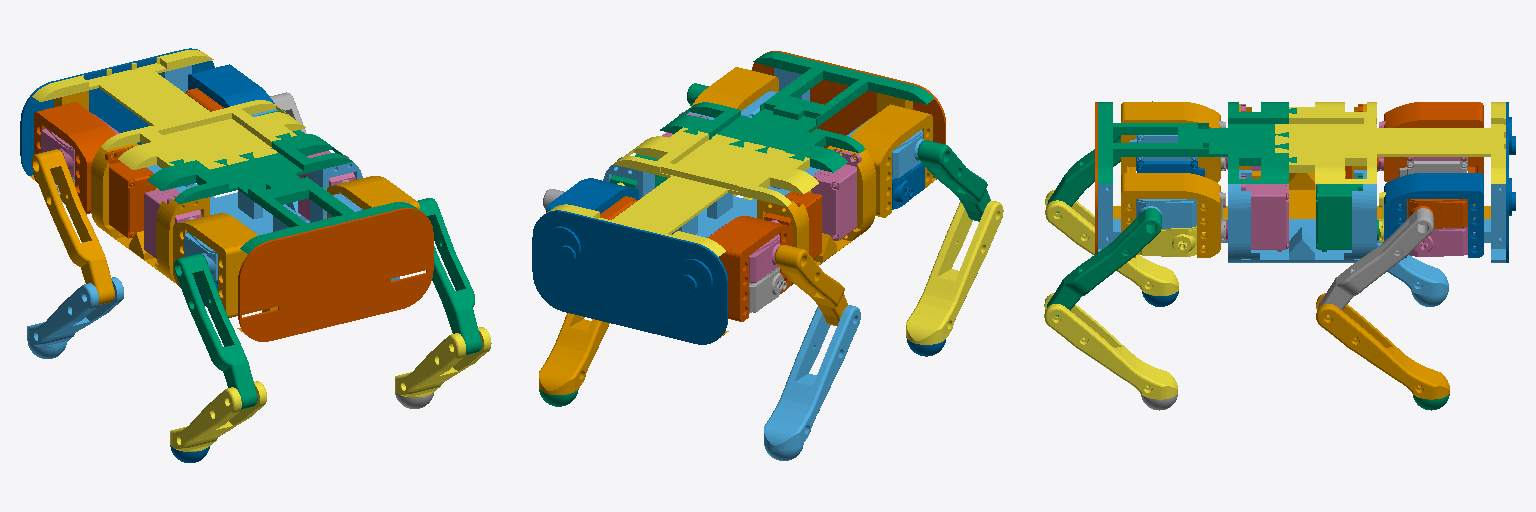
--- Render facts (derived) ---
Views: 3 orthographic renders of the robot side by side, from view 1: azimuth 30°, elevation 25°; view 2: azimuth 150°, elevation 25°; view 3: azimuth 270°, elevation 25°.
Model body_urdf with 42 links and 41 joints (12 continuous, 29 fixed), rooted at base_link, posed every joint at zero.
Links seen in each view (by area): view 1: final_body_ass_v11, final_body_top_front_v11, final_body_top_back_v11, FL_leg_knee_up_v11, BL_leg_knee_up_v11, base_link, BR_leg_knee_up_v11, BL_leg_hip_servo_holder_v11, FL_leg_hip_servo_holder_v11, final_body_right_v11, final_body_face_v11, BL_leg_ankle_v11 (+8 smaller); view 2: final_body_face_v11, final_body_top_front_v11, final_body_top_back_v11, BL_leg_ankle_v11, FL_leg_ankle_v11, BL_leg_hip_servo_holder_v11, base_link, FL_leg_hip_servo_holder_v11, FR_leg_ankle_v11, final_body_ass_v11, final_body_right_v11, BL_shoulder_servo_v11 (+9 smaller); view 3: final_body_top_front_v11, final_body_top_back_v11, final_body_right_v11, FR_leg_ankle_v11, BR_leg_ankle_v11, BR_leg_hip_servo_holder_v11, FR_leg_hip_servo_holder_v11, BR_leg_knee_up_v11, FR_leg_knee_up_v11, BL_leg_ankle_v11, FL_leg_hip_servo_holder_v11, BL_leg_hip_servo_holder_v11 (+13 smaller).
Boxes of the visible links, x1,y1,x2,y2 form: final_body_ass_v11: [238, 208, 433, 341]; final_body_top_front_v11: [32, 50, 305, 169]; final_body_top_back_v11: [147, 133, 419, 253]; FL_leg_knee_up_v11: [32, 149, 114, 304]; BL_leg_knee_up_v11: [174, 254, 257, 409]; base_link: [30, 91, 277, 334]; BR_leg_knee_up_v11: [417, 198, 481, 354]; BL_leg_hip_servo_holder_v11: [173, 213, 258, 317]; FL_leg_hip_servo_holder_v11: [34, 102, 115, 213]; final_body_right_v11: [146, 65, 399, 280]; final_body_face_v11: [20, 48, 214, 175]; BL_leg_ankle_v11: [170, 381, 266, 451]; final_body_face_v11: [532, 210, 727, 344]; final_body_top_front_v11: [547, 127, 818, 256]; final_body_top_back_v11: [660, 52, 933, 172]; BL_leg_ankle_v11: [906, 201, 1003, 344]; FL_leg_ankle_v11: [764, 305, 860, 449]; BL_leg_hip_servo_holder_v11: [851, 104, 932, 217]; base_link: [721, 93, 935, 336]; FL_leg_hip_servo_holder_v11: [708, 216, 792, 321]; FR_leg_ankle_v11: [539, 313, 609, 394]; final_body_ass_v11: [752, 51, 945, 179]; final_body_right_v11: [603, 68, 819, 237]; BL_shoulder_servo_v11: [811, 149, 861, 240]; final_body_top_front_v11: [1275, 102, 1505, 183]; final_body_top_back_v11: [1098, 102, 1296, 183]; final_body_right_v11: [1098, 170, 1505, 262]; FR_leg_ankle_v11: [1316, 293, 1449, 399]; BR_leg_ankle_v11: [1044, 293, 1177, 399]; BR_leg_hip_servo_holder_v11: [1121, 173, 1220, 257]; FR_leg_hip_servo_holder_v11: [1384, 173, 1483, 257]; BR_leg_knee_up_v11: [1047, 208, 1161, 316]; FR_leg_knee_up_v11: [1318, 208, 1433, 316]; BL_leg_ankle_v11: [1045, 189, 1178, 295]; FL_leg_hip_servo_holder_v11: [1384, 102, 1483, 182]; BL_leg_hip_servo_holder_v11: [1121, 102, 1220, 182].
Bounding box of the posed robot: 0.1868 × 0.3113 × 0.1613 m (x, y, z).
42 mesh visuals loaded from 42 distinct referenced files (42 binary STL).

URDF robot description (body_urdf):
<?xml version="1.0" ?>
<robot name="body_urdf">

<material name="silver">
  <color rgba="0.700 0.700 0.700 1.000"/>
</material>

<link name="base_link">
  <inertial>
    <origin xyz="-0.09832294338458615 0.1308688922668954 0.014562295681538818" rpy="0 0 0"/>
    <mass value="1.0091264990609587"/>
    <inertia ixx="0.006444104092593338" iyy="0.0006187182912900362" izz="0.006492899213548932" ixy="3.1017381210396086e-05" iyz="-1.106358624542521e-05" ixz="0.00012583594730295757"/>
  </inertial>
  <visual>
    <origin xyz="0 0 0" rpy="0 0 0"/>
    <geometry>
      <mesh filename="meshes/base_link.stl" scale="0.001 0.001 0.001"/>
    </geometry>
    <material name="silver"/>
    <material/>
  </visual>
  <collision>
    <origin xyz="0 0 0" rpy="0 0 0"/>
    <geometry>
      <mesh filename="meshes/base_link.stl" scale="0.001 0.001 0.001"/>
    </geometry>
  </collision>
</link>

<link name="final_body_right_v11">
  <inertial>
    <origin xyz="0.03084929023590735 0.13578873455716275 0.010080476393786718" rpy="0 0 0"/>
    <mass value="1.0573685832129545"/>
    <inertia ixx="0.006673519250288529" iyy="0.0006716967260792454" izz="0.00676487921131453" ixy="3.0295167626065433e-05" iyz="1.0555750832457605e-05" ixz="-0.0001414940180916987"/>
  </inertial>
  <visual>
    <origin xyz="0.066 0.003 -0.004" rpy="0 0 0"/>
    <geometry>
      <mesh filename="meshes/final_body_right_v11.stl" scale="0.001 0.001 0.001"/>
    </geometry>
    <material name="silver"/>
    <material/>
  </visual>
  <collision>
    <origin xyz="0.066 0.003 -0.004" rpy="0 0 0"/>
    <geometry>
      <mesh filename="meshes/final_body_right_v11.stl" scale="0.001 0.001 0.001"/>
    </geometry>
  </collision>
</link>

<link name="final_body_top_back_v11">
  <inertial>
    <origin xyz="0.03733609341330517 0.0685774653288937 0.0025953340692637245" rpy="0 0 0"/>
    <mass value="0.24941485988842652"/>
    <inertia ixx="0.0004748040246053322" iyy="0.0002446467937671842" izz="0.0007179299991387799" ixy="3.7952674485700316e-06" iyz="2.5539268485221672e-06" ixz="2.0392514878770848e-08"/>
  </inertial>
  <visual>
    <origin xyz="0.1032 0.003 -0.06253" rpy="0 0 0"/>
    <geometry>
      <mesh filename="meshes/final_body_top_back_v11.stl" scale="0.001 0.001 0.001"/>
    </geometry>
    <material name="silver"/>
    <material/>
  </visual>
  <collision>
    <origin xyz="0.1032 0.003 -0.06253" rpy="0 0 0"/>
    <geometry>
      <mesh filename="meshes/final_body_top_back_v11.stl" scale="0.001 0.001 0.001"/>
    </geometry>
  </collision>
</link>

<link name="final_body_top_front_v11">
  <inertial>
    <origin xyz="-0.03743787423794786 -0.08646398439485603 0.0021478138289388188" rpy="0 0 0"/>
    <mass value="0.26735979522124304"/>
    <inertia ixx="0.0005313120601983228" iyy="0.00027561794314928363" izz="0.0008054604598366679" ixy="-4.744508627515208e-07" iyz="2.0182315194081438e-06" ixz="1.0163750948960666e-07"/>
  </inertial>
  <visual>
    <origin xyz="0.0288 -0.267 -0.06253" rpy="0 0 0"/>
    <geometry>
      <mesh filename="meshes/final_body_top_front_v11.stl" scale="0.001 0.001 0.001"/>
    </geometry>
    <material name="silver"/>
    <material/>
  </visual>
  <collision>
    <origin xyz="0.0288 -0.267 -0.06253" rpy="0 0 0"/>
    <geometry>
      <mesh filename="meshes/final_body_top_front_v11.stl" scale="0.001 0.001 0.001"/>
    </geometry>
  </collision>
</link>

<link name="final_body_face_v11">
  <inertial>
    <origin xyz="1.2754717540752747e-06 0.0012835559172246769 0.035539816802552186" rpy="0 0 0"/>
    <mass value="0.1630730098056556"/>
    <inertia ixx="5.5851881092635475e-05" iyy="0.00031552789977539234" izz="0.0002600051256149982" ixy="-7.730017741354456e-10" iyz="-4.0992670012683467e-07" ixz="6.10425678721719e-09"/>
  </inertial>
  <visual>
    <origin xyz="0.066 -0.267 0.0" rpy="0 0 0"/>
    <geometry>
      <mesh filename="meshes/final_body_face_v11.stl" scale="0.001 0.001 0.001"/>
    </geometry>
    <material name="silver"/>
    <material/>
  </visual>
  <collision>
    <origin xyz="0.066 -0.267 0.0" rpy="0 0 0"/>
    <geometry>
      <mesh filename="meshes/final_body_face_v11.stl" scale="0.001 0.001 0.001"/>
    </geometry>
  </collision>
</link>

<link name="final_body_ass_v11">
  <inertial>
    <origin xyz="2.020921643233753e-05 -0.0009999999999999966 0.03448034290306755" rpy="0 0 0"/>
    <mass value="0.14143508899737656"/>
    <inertia ixx="5.2644019507456597e-05" iyy="0.0002627695931459687" izz="0.0002102198636978436" ixy="6.776263578034403e-21" iyz="0.0" ixz="3.7330252715948344e-08"/>
  </inertial>
  <visual>
    <origin xyz="0.066 0.003 -0.0" rpy="0 0 0"/>
    <geometry>
      <mesh filename="meshes/final_body_ass_v11.stl" scale="0.001 0.001 0.001"/>
    </geometry>
    <material name="silver"/>
    <material/>
  </visual>
  <collision>
    <origin xyz="0.066 0.003 -0.0" rpy="0 0 0"/>
    <geometry>
      <mesh filename="meshes/final_body_ass_v11.stl" scale="0.001 0.001 0.001"/>
    </geometry>
  </collision>
</link>

<link name="BL_shoulder_servo_v11">
  <inertial>
    <origin xyz="0.005000000417158992 0.010978373638995828 0.024635264790648363" rpy="0 0 0"/>
    <mass value="0.04601290048863176"/>
    <inertia ixx="1.2574710791247263e-05" iyy="8.00044061970498e-06" izz="7.68339797587803e-06" ixy="4.423544863740858e-17" iyz="-2.7077995843797316e-08" ixz="-3.396751196288461e-15"/>
  </inertial>
  <visual>
    <origin xyz="0.1265 -0.091873 -0.010595" rpy="0 0 0"/>
    <geometry>
      <mesh filename="meshes/BL_shoulder_servo_v11.stl" scale="0.001 0.001 0.001"/>
    </geometry>
    <material name="silver"/>
    <material/>
  </visual>
  <collision>
    <origin xyz="0.1265 -0.091873 -0.010595" rpy="0 0 0"/>
    <geometry>
      <mesh filename="meshes/BL_shoulder_servo_v11.stl" scale="0.001 0.001 0.001"/>
    </geometry>
  </collision>
</link>

<link name="BL_shoulder_servo_arm_v11">
  <inertial>
    <origin xyz="-1.4774175266532574e-05 -0.0031825221993156266 0.007872037110583999" rpy="0 0 0"/>
    <mass value="0.0032700969311456954"/>
    <inertia ixx="3.264258865628831e-07" iyy="3.5431626266497937e-07" izz="4.5035218574967714e-08" ixy="3.9807992656632016e-11" iyz="2.508121760210906e-09" ixz="4.059464669674425e-09"/>
  </inertial>
  <visual>
    <origin xyz="0.1215 -0.081273 -0.025395" rpy="0 0 0"/>
    <geometry>
      <mesh filename="meshes/BL_shoulder_servo_arm_v11.stl" scale="0.001 0.001 0.001"/>
    </geometry>
    <material name="silver"/>
    <material/>
  </visual>
  <collision>
    <origin xyz="0.1215 -0.081273 -0.025395" rpy="0 0 0"/>
    <geometry>
      <mesh filename="meshes/BL_shoulder_servo_arm_v11.stl" scale="0.001 0.001 0.001"/>
    </geometry>
  </collision>
</link>

<link name="BL_leg_hip_servo_holder_v11">
  <inertial>
    <origin xyz="0.0003111372642049248 -0.02973403507055474 0.014853630357813653" rpy="0 0 0"/>
    <mass value="0.035759291462307746"/>
    <inertia ixx="2.9574958845607823e-05" iyy="1.0644821498813828e-05" izz="2.4203084441789375e-05" ixy="3.0545762537523453e-08" iyz="1.8965558623796816e-06" ixz="7.420743759439081e-08"/>
  </inertial>
  <visual>
    <origin xyz="0.1215 -0.075473 -0.025395" rpy="0 0 0"/>
    <geometry>
      <mesh filename="meshes/BL_leg_hip_servo_holder_v11.stl" scale="0.001 0.001 0.001"/>
    </geometry>
    <material name="silver"/>
    <material/>
  </visual>
  <collision>
    <origin xyz="0.1215 -0.075473 -0.025395" rpy="0 0 0"/>
    <geometry>
      <mesh filename="meshes/BL_leg_hip_servo_holder_v11.stl" scale="0.001 0.001 0.001"/>
    </geometry>
  </collision>
</link>

<link name="BL_femur_servo_v11">
  <inertial>
    <origin xyz="0.01097837415844323 0.02463555880899092 0.0050003579729185135" rpy="0 0 0"/>
    <mass value="0.04601290050153535"/>
    <inertia ixx="8.000440624561934e-06" iyy="7.683397982049525e-06" izz="1.257471080074238e-05" ixy="-2.7077996425010995e-08" iyz="-2.5059571388472146e-15" ixz="-3.729655473350135e-17"/>
  </inertial>
  <visual>
    <origin xyz="0.1297 -0.0181 -0.039315" rpy="0 0 0"/>
    <geometry>
      <mesh filename="meshes/BL_femur_servo_v11.stl" scale="0.001 0.001 0.001"/>
    </geometry>
    <material name="silver"/>
    <material/>
  </visual>
  <collision>
    <origin xyz="0.1297 -0.0181 -0.039315" rpy="0 0 0"/>
    <geometry>
      <mesh filename="meshes/BL_femur_servo_v11.stl" scale="0.001 0.001 0.001"/>
    </geometry>
  </collision>
</link>

<link name="BL_leg_knee_up_v11">
  <inertial>
    <origin xyz="-0.008186450135887174 -0.03333796413791295 -0.03273825100187153" rpy="0 0 0"/>
    <mass value="0.0166380341089574"/>
    <inertia ixx="1.4973159103528296e-05" iyy="7.831104039048996e-06" izz="8.151900973265148e-06" ixy="2.0657848576850023e-07" iyz="-7.202098162942318e-06" ixz="2.0849813871795997e-07"/>
  </inertial>
  <visual>
    <origin xyz="0.1403 -0.0329 -0.044315" rpy="0 0 0"/>
    <geometry>
      <mesh filename="meshes/BL_leg_knee_up_v11.stl" scale="0.001 0.001 0.001"/>
    </geometry>
    <material name="silver"/>
    <material/>
  </visual>
  <collision>
    <origin xyz="0.1403 -0.0329 -0.044315" rpy="0 0 0"/>
    <geometry>
      <mesh filename="meshes/BL_leg_knee_up_v11.stl" scale="0.001 0.001 0.001"/>
    </geometry>
  </collision>
</link>

<link name="BL_leg_ankle_v11">
  <inertial>
    <origin xyz="0.006599671423149683 0.03633185853490647 -0.030777855602896247" rpy="0 0 0"/>
    <mass value="0.022209946665644437"/>
    <inertia ixx="1.8142218155355465e-05" iyy="8.758864927658236e-06" izz="1.2497646484325748e-05" ixy="7.136090776318138e-11" iyz="8.477773878468615e-06" ixz="-2.1616187783962335e-10"/>
  </inertial>
  <visual>
    <origin xyz="0.1533 0.029588 0.021258" rpy="0 0 0"/>
    <geometry>
      <mesh filename="meshes/BL_leg_ankle_v11.stl" scale="0.001 0.001 0.001"/>
    </geometry>
    <material name="silver"/>
    <material/>
  </visual>
  <collision>
    <origin xyz="0.1533 0.029588 0.021258" rpy="0 0 0"/>
    <geometry>
      <mesh filename="meshes/BL_leg_ankle_v11.stl" scale="0.001 0.001 0.001"/>
    </geometry>
  </collision>
</link>

<link name="BL_foot1">
  <inertial>
    <origin xyz="-1.37100539309154e-05 -8.155967483325366e-08 -0.004683879626901949" rpy="0 0 0"/>
    <mass value="0.03203586218872173"/>
    <inertia ixx="1.2963894935669792e-06" iyy="1.296030427783471e-06" izz="1.9992319612345414e-06" ixy="-3.955233493155297e-13" iyz="4.1446138002458523e-10" ixz="4.565430065245346e-13"/>
  </inertial>
  <visual>
    <origin xyz="0.1467 -0.038288 0.080289" rpy="0 0 0"/>
    <geometry>
      <mesh filename="meshes/BL_foot1.stl" scale="0.001 0.001 0.001"/>
    </geometry>
    <material name="silver"/>
    <material/>
  </visual>
  <collision>
    <origin xyz="0.1467 -0.038288 0.080289" rpy="0 0 0"/>
    <geometry>
      <mesh filename="meshes/BL_foot1.stl" scale="0.001 0.001 0.001"/>
    </geometry>
  </collision>
</link>

<link name="BL_tip_foot1">
  <inertial>
    <origin xyz="1.4000512477435612e-05 -5.331310200578504e-05 -0.021949945389569528" rpy="0 0 0"/>
    <mass value="6.16537558266988e-06"/>
    <inertia ixx="8.991172973528629e-13" iyy="8.991171977867869e-13" izz="7.706718980731129e-13" ixy="1.9852334701272664e-23" iyz="0.0" ixz="-1.3234889800848443e-23"/>
  </inertial>
  <visual>
    <origin xyz="0.146714 -0.038341 0.070289" rpy="0 0 0"/>
    <geometry>
      <mesh filename="meshes/BL_tip_foot1.stl" scale="0.001 0.001 0.001"/>
    </geometry>
    <material name="silver"/>
    <material/>
  </visual>
  <collision>
    <origin xyz="0.146714 -0.038341 0.070289" rpy="0 0 0"/>
    <geometry>
      <mesh filename="meshes/BL_tip_foot1.stl" scale="0.001 0.001 0.001"/>
    </geometry>
  </collision>
</link>

<link name="BR_shoulder_servo_v11">
  <inertial>
    <origin xyz="-0.004999999999906737 0.010978373638995814 0.024635264790648342" rpy="0 0 0"/>
    <mass value="0.04601290048863176"/>
    <inertia ixx="1.2574710791247155e-05" iyy="8.000440619705264e-06" izz="7.683397975878246e-06" ixy="-4.41405809473161e-17" iyz="-2.707799584366179e-08" ixz="3.3966800455208918e-15"/>
  </inertial>
  <visual>
    <origin xyz="0.0055 -0.091873 -0.010595" rpy="0 0 0"/>
    <geometry>
      <mesh filename="meshes/BR_shoulder_servo_v11.stl" scale="0.001 0.001 0.001"/>
    </geometry>
    <material name="silver"/>
    <material/>
  </visual>
  <collision>
    <origin xyz="0.0055 -0.091873 -0.010595" rpy="0 0 0"/>
    <geometry>
      <mesh filename="meshes/BR_shoulder_servo_v11.stl" scale="0.001 0.001 0.001"/>
    </geometry>
  </collision>
</link>

<link name="BR_shoulder_servo_arm_v11">
  <inertial>
    <origin xyz="1.4778291014389683e-05 -0.003182518476422827 0.007872032785530586" rpy="0 0 0"/>
    <mass value="0.003270100372952749"/>
    <inertia ixx="3.264260085700882e-07" iyy="3.543164257982531e-07" izz="4.503532148538472e-08" ixy="-3.977690578175e-11" iyz="2.5082435760458453e-09" ixz="-4.0594453569333806e-09"/>
  </inertial>
  <visual>
    <origin xyz="0.0105 -0.081273 -0.025395" rpy="0 0 0"/>
    <geometry>
      <mesh filename="meshes/BR_shoulder_servo_arm_v11.stl" scale="0.001 0.001 0.001"/>
    </geometry>
    <material name="silver"/>
    <material/>
  </visual>
  <collision>
    <origin xyz="0.0105 -0.081273 -0.025395" rpy="0 0 0"/>
    <geometry>
      <mesh filename="meshes/BR_shoulder_servo_arm_v11.stl" scale="0.001 0.001 0.001"/>
    </geometry>
  </collision>
</link>

<link name="BR_leg_hip_servo_holder_v11">
  <inertial>
    <origin xyz="-0.0003103970836539176 -0.029675564171081706 0.014851204620871139" rpy="0 0 0"/>
    <mass value="0.03584481537828423"/>
    <inertia ixx="2.96365732017768e-05" iyy="1.0655535802277775e-05" izz="2.4254678096070114e-05" ixy="-3.1194383537498595e-08" iyz="1.8986820863493576e-06" ixz="-7.417973162695041e-08"/>
  </inertial>
  <visual>
    <origin xyz="0.0105 -0.075473 -0.025395" rpy="0 0 0"/>
    <geometry>
      <mesh filename="meshes/BR_leg_hip_servo_holder_v11.stl" scale="0.001 0.001 0.001"/>
    </geometry>
    <material name="silver"/>
    <material/>
  </visual>
  <collision>
    <origin xyz="0.0105 -0.075473 -0.025395" rpy="0 0 0"/>
    <geometry>
      <mesh filename="meshes/BR_leg_hip_servo_holder_v11.stl" scale="0.001 0.001 0.001"/>
    </geometry>
  </collision>
</link>

<link name="BR_femur_servo_v11">
  <inertial>
    <origin xyz="-0.010978371357005062 -0.02496444119100899 -0.004999642027081433" rpy="0 0 0"/>
    <mass value="0.046012900501535337"/>
    <inertia ixx="8.000440624561826e-06" iyy="7.68339798204939e-06" izz="1.2574710800742313e-05" ixy="2.70779964250957e-08" iyz="-2.5059164812657464e-15" ixz="3.7340600446758576e-17"/>
  </inertial>
  <visual>
    <origin xyz="0.0023 -0.0671 -0.049315" rpy="0 0 0"/>
    <geometry>
      <mesh filename="meshes/BR_femur_servo_v11.stl" scale="0.001 0.001 0.001"/>
    </geometry>
    <material name="silver"/>
    <material/>
  </visual>
  <collision>
    <origin xyz="0.0023 -0.0671 -0.049315" rpy="0 0 0"/>
    <geometry>
      <mesh filename="meshes/BR_femur_servo_v11.stl" scale="0.001 0.001 0.001"/>
    </geometry>
  </collision>
</link>

<link name="BR_leg_knee_up_v11">
  <inertial>
    <origin xyz="0.008186450675841872 -0.03333796566138478 -0.03273825548829235" rpy="0 0 0"/>
    <mass value="0.01663804691396025"/>
    <inertia ixx="1.4973165580154284e-05" iyy="7.831108529663758e-06" izz="8.15190398040124e-06" ixy="-2.065783004369929e-07" iyz="-7.202101187504959e-06" ixz="-2.0849804666921881e-07"/>
  </inertial>
  <visual>
    <origin xyz="-0.0083 -0.0323 -0.044315" rpy="0 0 0"/>
    <geometry>
      <mesh filename="meshes/BR_leg_knee_up_v11.stl" scale="0.001 0.001 0.001"/>
    </geometry>
    <material name="silver"/>
    <material/>
  </visual>
  <collision>
    <origin xyz="-0.0083 -0.0323 -0.044315" rpy="0 0 0"/>
    <geometry>
      <mesh filename="meshes/BR_leg_knee_up_v11.stl" scale="0.001 0.001 0.001"/>
    </geometry>
  </collision>
</link>

<link name="BR_tibia_servo_v11">
  <inertial>
    <origin xyz="-0.01097837374119087 0.02496443940279416 0.0050003579727485765" rpy="0 0 0"/>
    <mass value="0.046012900501535337"/>
    <inertia ixx="8.000440624561907e-06" iyy="7.683397982049423e-06" izz="1.2574710800742367e-05" ixy="-2.7077996425099087e-08" iyz="-2.5059503625836366e-15" ixz="-3.733551824907505e-17"/>
  </inertial>
  <visual>
    <origin xyz="0.0023 -0.0181 -0.018815" rpy="0 0 0"/>
    <geometry>
      <mesh filename="meshes/BR_tibia_servo_v11.stl" scale="0.001 0.001 0.001"/>
    </geometry>
    <material name="silver"/>
    <material/>
  </visual>
  <collision>
    <origin xyz="0.0023 -0.0181 -0.018815" rpy="0 0 0"/>
    <geometry>
      <mesh filename="meshes/BR_tibia_servo_v11.stl" scale="0.001 0.001 0.001"/>
    </geometry>
  </collision>
</link>

<link name="BR_tip_foot1">
  <inertial>
    <origin xyz="0.05198800228875158 0.08332368689799408 0.08630405461043009" rpy="0 0 0"/>
    <mass value="6.16537558266988e-06"/>
    <inertia ixx="8.991172972999233e-13" iyy="8.991171979853102e-13" izz="7.706718982666732e-13" ixy="-2.895132143935597e-24" iyz="-6.617444900424222e-24" ixz="1.6543612251060553e-24"/>
  </inertial>
  <visual>
    <origin xyz="0.037088 0.045636 0.178543" rpy="0 0 0"/>
    <geometry>
      <mesh filename="meshes/BR_tip_foot1.stl" scale="0.001 0.001 0.001"/>
    </geometry>
    <material name="silver"/>
    <material/>
  </visual>
  <collision>
    <origin xyz="0.037088 0.045636 0.178543" rpy="0 0 0"/>
    <geometry>
      <mesh filename="meshes/BR_tip_foot1.stl" scale="0.001 0.001 0.001"/>
    </geometry>
  </collision>
</link>

<link name="FL_shoulder_servo_v11">
  <inertial>
    <origin xyz="-0.005000000000094831 -0.010978458148605458 0.02463537492765486" rpy="0 0 0"/>
    <mass value="0.04601290050153535"/>
    <inertia ixx="1.2574710800742489e-05" iyy="8.000440624561555e-06" izz="7.683397982049091e-06" ixy="-3.74049749507499e-17" iyz="2.7077996425065205e-08" ixz="2.5059435863200585e-15"/>
  </inertial>
  <visual>
    <origin xyz="0.1165 -0.172127 -0.010564" rpy="0 0 0"/>
    <geometry>
      <mesh filename="meshes/FL_shoulder_servo_v11.stl" scale="0.001 0.001 0.001"/>
    </geometry>
    <material name="silver"/>
    <material/>
  </visual>
  <collision>
    <origin xyz="0.1165 -0.172127 -0.010564" rpy="0 0 0"/>
    <geometry>
      <mesh filename="meshes/FL_shoulder_servo_v11.stl" scale="0.001 0.001 0.001"/>
    </geometry>
  </collision>
</link>

<link name="FL_shoulder_servo_arm_v11">
  <inertial>
    <origin xyz="-1.4774595671396273e-05 0.00318243770459542 0.007872147248173294" rpy="0 0 0"/>
    <mass value="0.003270096931145701"/>
    <inertia ixx="3.264258884250274e-07" iyy="3.543162629485389e-07" izz="4.503522072063092e-08" ixy="-3.980726601755975e-11" iyz="-2.5081215526776696e-09" ixz="4.05946458851681e-09"/>
  </inertial>
  <visual>
    <origin xyz="0.1215 -0.182727 -0.025364" rpy="0 0 0"/>
    <geometry>
      <mesh filename="meshes/FL_shoulder_servo_arm_v11.stl" scale="0.001 0.001 0.001"/>
    </geometry>
    <material name="silver"/>
    <material/>
  </visual>
  <collision>
    <origin xyz="0.1215 -0.182727 -0.025364" rpy="0 0 0"/>
    <geometry>
      <mesh filename="meshes/FL_shoulder_servo_arm_v11.stl" scale="0.001 0.001 0.001"/>
    </geometry>
  </collision>
</link>

<link name="BR_foot1">
  <inertial>
    <origin xyz="2.288856089036062e-09 -3.1507249873899412e-06 -0.004688447764353121" rpy="0 0 0"/>
    <mass value="0.032103076351745446"/>
    <inertia ixx="1.2999992826350079e-06" iyy="1.3012507208091787e-06" izz="2.0056908572058734e-06" ixy="1.0164395367051604e-20" iyz="3.517273810394036e-10" ixz="-2.710505431213761e-20"/>
  </inertial>
  <visual>
    <origin xyz="-0.0149 -0.037688 0.080289" rpy="0 0 0"/>
    <geometry>
      <mesh filename="meshes/BR_foot1.stl" scale="0.001 0.001 0.001"/>
    </geometry>
    <material name="silver"/>
    <material/>
  </visual>
  <collision>
    <origin xyz="-0.0149 -0.037688 0.080289" rpy="0 0 0"/>
    <geometry>
      <mesh filename="meshes/BR_foot1.stl" scale="0.001 0.001 0.001"/>
    </geometry>
  </collision>
</link>

<link name="FL_tip_foot1">
  <inertial>
    <origin xyz="-0.23078799990477367 0.24512360418342663 -0.07430483525198046" rpy="0 0 0"/>
    <mass value="6.16537558266988e-06"/>
    <inertia ixx="8.991172973660978e-13" iyy="8.99117198130894e-13" izz="7.706718984966294e-13" ixy="-2.6469779601696886e-23" iyz="2.6469779601696886e-23" ixz="0.0"/>
  </inertial>
  <visual>
    <origin xyz="-0.083888 0.028636 0.017965" rpy="0 0 0"/>
    <geometry>
      <mesh filename="meshes/FL_tip_foot1.stl" scale="0.001 0.001 0.001"/>
    </geometry>
    <material name="silver"/>
    <material/>
  </visual>
  <collision>
    <origin xyz="-0.083888 0.028636 0.017965" rpy="0 0 0"/>
    <geometry>
      <mesh filename="meshes/FL_tip_foot1.stl" scale="0.001 0.001 0.001"/>
    </geometry>
  </collision>
</link>

<link name="FL_foot1">
  <inertial>
    <origin xyz="9.533090983282477e-11 -3.2334760595997825e-06 -0.004688338161605687" rpy="0 0 0"/>
    <mass value="0.03210308702051613"/>
    <inertia ixx="1.299999993479477e-06" iyy="1.3012514464865637e-06" izz="2.0056919635782523e-06" ixy="0.0" iyz="3.51731858048987e-10" ixz="5.421010862427522e-20"/>
  </inertial>
  <visual>
    <origin xyz="0.1469 -0.216488 0.08032" rpy="0 0 0"/>
    <geometry>
      <mesh filename="meshes/FL_foot1.stl" scale="0.001 0.001 0.001"/>
    </geometry>
    <material name="silver"/>
    <material/>
  </visual>
  <collision>
    <origin xyz="0.1469 -0.216488 0.08032" rpy="0 0 0"/>
    <geometry>
      <mesh filename="meshes/FL_foot1.stl" scale="0.001 0.001 0.001"/>
    </geometry>
  </collision>
</link>

<link name="FR_shoulder_servo_v11">
  <inertial>
    <origin xyz="0.0049999995828425795 -0.010978373645823492 0.02463526479006555" rpy="0 0 0"/>
    <mass value="0.046012900501535337"/>
    <inertia ixx="1.2574710800742923e-05" iyy="8.000440624561853e-06" izz="7.683397982049959e-06" ixy="3.7364317369281697e-17" iyz="2.7077996425010995e-08" ixz="-2.5059300337929025e-15"/>
  </inertial>
  <visual>
    <origin xyz="0.0155 -0.172127 -0.010595" rpy="0 0 0"/>
    <geometry>
      <mesh filename="meshes/FR_shoulder_servo_v11.stl" scale="0.001 0.001 0.001"/>
    </geometry>
    <material name="silver"/>
    <material/>
  </visual>
  <collision>
    <origin xyz="0.0155 -0.172127 -0.010595" rpy="0 0 0"/>
    <geometry>
      <mesh filename="meshes/FR_shoulder_servo_v11.stl" scale="0.001 0.001 0.001"/>
    </geometry>
  </collision>
</link>

<link name="FR_shoulder_servo_arm_v11">
  <inertial>
    <origin xyz="1.4777879760893148e-05 0.003382518491762354 0.007872032785530572" rpy="0 0 0"/>
    <mass value="0.0032701003729527518"/>
    <inertia ixx="3.264260121132778e-07" iyy="3.5431642633774954e-07" izz="4.503532556810385e-08" ixy="3.977552319019899e-11" iyz="-2.5082431811573912e-09" ixz="-4.059445202506145e-09"/>
  </inertial>
  <visual>
    <origin xyz="0.0105 -0.182727 -0.025395" rpy="0 0 0"/>
    <geometry>
      <mesh filename="meshes/FR_shoulder_servo_arm_v11.stl" scale="0.001 0.001 0.001"/>
    </geometry>
    <material name="silver"/>
    <material/>
  </visual>
  <collision>
    <origin xyz="0.0105 -0.182727 -0.025395" rpy="0 0 0"/>
    <geometry>
      <mesh filename="meshes/FR_shoulder_servo_arm_v11.stl" scale="0.001 0.001 0.001"/>
    </geometry>
  </collision>
</link>

<link name="FR_leg_hip_servo_holder_v11">
  <inertial>
    <origin xyz="-0.0003103177867561629 0.02966882097851517 0.014847477048963373" rpy="0 0 0"/>
    <mass value="0.035853832339797095"/>
    <inertia ixx="2.964507741737765e-05" iyy="1.065754704355732e-05" izz="2.4261196501281423e-05" ixy="3.127060520102126e-08" iyz="-1.9022651394532222e-06" ixz="-7.413870955669502e-08"/>
  </inertial>
  <visual>
    <origin xyz="0.0105 -0.188727 -0.025395" rpy="0 0 0"/>
    <geometry>
      <mesh filename="meshes/FR_leg_hip_servo_holder_v11.stl" scale="0.001 0.001 0.001"/>
    </geometry>
    <material name="silver"/>
    <material/>
  </visual>
  <collision>
    <origin xyz="0.0105 -0.188727 -0.025395" rpy="0 0 0"/>
    <geometry>
      <mesh filename="meshes/FR_leg_hip_servo_holder_v11.stl" scale="0.001 0.001 0.001"/>
    </geometry>
  </collision>
</link>

<link name="FR_femur_servo_v11">
  <inertial>
    <origin xyz="-0.01097837177425732 0.02463556059720587 -0.004999642027081516" rpy="0 0 0"/>
    <mass value="0.046012900501535337"/>
    <inertia ixx="8.000440624561771e-06" iyy="7.683397982049444e-06" izz="1.2574710800742489e-05" ixy="2.7077996425119415e-08" iyz="-2.5060791115916192e-15" ixz="3.7343988578547593e-17"/>
  </inertial>
  <visual>
    <origin xyz="0.0023 -0.1971 -0.049315" rpy="0 0 0"/>
    <geometry>
      <mesh filename="meshes/FR_femur_servo_v11.stl" scale="0.001 0.001 0.001"/>
    </geometry>
    <material name="silver"/>
    <material/>
  </visual>
  <collision>
    <origin xyz="0.0023 -0.1971 -0.049315" rpy="0 0 0"/>
    <geometry>
      <mesh filename="meshes/FR_femur_servo_v11.stl" scale="0.001 0.001 0.001"/>
    </geometry>
  </collision>
</link>

<link name="FR_tibia_servo_v11">
  <inertial>
    <origin xyz="-0.010978371774257306 0.02463556059720587 -0.004999642027081461" rpy="0 0 0"/>
    <mass value="0.046012900501535337"/>
    <inertia ixx="8.000440624562205e-06" iyy="7.68339798204943e-06" izz="1.2574710800742489e-05" ixy="2.7077996425065205e-08" iyz="-2.5058893762114343e-15" ixz="3.7328741985497016e-17"/>
  </inertial>
  <visual>
    <origin xyz="0.0023 -0.1971 -0.028815" rpy="0 0 0"/>
    <geometry>
      <mesh filename="meshes/FR_tibia_servo_v11.stl" scale="0.001 0.001 0.001"/>
    </geometry>
    <material name="silver"/>
    <material/>
  </visual>
  <collision>
    <origin xyz="0.0023 -0.1971 -0.028815" rpy="0 0 0"/>
    <geometry>
      <mesh filename="meshes/FR_tibia_servo_v11.stl" scale="0.001 0.001 0.001"/>
    </geometry>
  </collision>
</link>

<link name="FR_leg_knee_up_v11">
  <inertial>
    <origin xyz="0.008186450258589608 -0.033337963873169896 -0.03273825548829235" rpy="0 0 0"/>
    <mass value="0.01663804691396025"/>
    <inertia ixx="1.4973165580153911e-05" iyy="7.831108529663626e-06" izz="8.151903980401463e-06" ixy="-2.065783004369948e-07" iyz="-7.20210118750502e-06" ixz="-2.0849804666922305e-07"/>
  </inertial>
  <visual>
    <origin xyz="-0.0083 -0.2119 -0.044315" rpy="0 0 0"/>
    <geometry>
      <mesh filename="meshes/FR_leg_knee_up_v11.stl" scale="0.001 0.001 0.001"/>
    </geometry>
    <material name="silver"/>
    <material/>
  </visual>
  <collision>
    <origin xyz="-0.0083 -0.2119 -0.044315" rpy="0 0 0"/>
    <geometry>
      <mesh filename="meshes/FR_leg_knee_up_v11.stl" scale="0.001 0.001 0.001"/>
    </geometry>
  </collision>
</link>

<link name="FR_leg_ankle_v11">
  <inertial>
    <origin xyz="0.006600332709766968 0.0363318051633027 -0.03077780621827081" rpy="0 0 0"/>
    <mass value="0.022209898104400553"/>
    <inertia ixx="1.814216094624913e-05" iyy="8.758836859265926e-06" izz="1.249761147303235e-05" ixy="-7.25926106606798e-11" iyz="8.477746015364942e-06" ixz="2.173650679885902e-10"/>
  </inertial>
  <visual>
    <origin xyz="-0.0083 -0.149412 0.021258" rpy="0 0 0"/>
    <geometry>
      <mesh filename="meshes/FR_leg_ankle_v11.stl" scale="0.001 0.001 0.001"/>
    </geometry>
    <material name="silver"/>
    <material/>
  </visual>
  <collision>
    <origin xyz="-0.0083 -0.149412 0.021258" rpy="0 0 0"/>
    <geometry>
      <mesh filename="meshes/FR_leg_ankle_v11.stl" scale="0.001 0.001 0.001"/>
    </geometry>
  </collision>
</link>

<link name="FR_tip_foot1">
  <inertial>
    <origin xyz="0.2315880018714994 0.08332368868620879 0.08627405461043021" rpy="0 0 0"/>
    <mass value="6.165375582669441e-06"/>
    <inertia ixx="8.991172974719769e-13" iyy="8.99117197833109e-13" izz="7.70671898178992e-13" ixy="3.308722450212111e-24" iyz="2.6469779601696886e-23" ixz="0.0"/>
  </inertial>
  <visual>
    <origin xyz="0.216688 -0.133964 0.178543" rpy="0 0 0"/>
    <geometry>
      <mesh filename="meshes/FR_tip_foot1.stl" scale="0.001 0.001 0.001"/>
    </geometry>
    <material name="silver"/>
    <material/>
  </visual>
  <collision>
    <origin xyz="0.216688 -0.133964 0.178543" rpy="0 0 0"/>
    <geometry>
      <mesh filename="meshes/FR_tip_foot1.stl" scale="0.001 0.001 0.001"/>
    </geometry>
  </collision>
</link>

<link name="FR_foot1">
  <inertial>
    <origin xyz="1.610972258370147e-09 -7.470582641389001e-08 -0.004686863229863059" rpy="0 0 0"/>
    <mass value="0.032106697385340256"/>
    <inertia ixx="1.3013552658286843e-06" iyy="1.3008349106742383e-06" izz="2.0066494720732703e-06" ixy="5.731892824961671e-13" iyz="2.4224604310355002e-11" ixz="-2.668426189646883e-14"/>
  </inertial>
  <visual>
    <origin xyz="-0.0149 -0.217288 0.080289" rpy="0 0 0"/>
    <geometry>
      <mesh filename="meshes/FR_foot1.stl" scale="0.001 0.001 0.001"/>
    </geometry>
    <material name="silver"/>
    <material/>
  </visual>
  <collision>
    <origin xyz="-0.0149 -0.217288 0.080289" rpy="0 0 0"/>
    <geometry>
      <mesh filename="meshes/FR_foot1.stl" scale="0.001 0.001 0.001"/>
    </geometry>
  </collision>
</link>

<link name="BR_leg_ankle_v11">
  <inertial>
    <origin xyz="0.0066003331270191555 0.03633180337508777 -0.03077780621827081" rpy="0 0 0"/>
    <mass value="0.022209898104400553"/>
    <inertia ixx="1.8142160946248303e-05" iyy="8.758836859266034e-06" izz="1.2497611473032574e-05" ixy="-7.259261065263299e-11" iyz="8.477746015365e-06" ixz="2.1736506797503767e-10"/>
  </inertial>
  <visual>
    <origin xyz="-0.0083 0.030188 0.021258" rpy="0 0 0"/>
    <geometry>
      <mesh filename="meshes/BR_leg_ankle_v11.stl" scale="0.001 0.001 0.001"/>
    </geometry>
    <material name="silver"/>
    <material/>
  </visual>
  <collision>
    <origin xyz="-0.0083 0.030188 0.021258" rpy="0 0 0"/>
    <geometry>
      <mesh filename="meshes/BR_leg_ankle_v11.stl" scale="0.001 0.001 0.001"/>
    </geometry>
  </collision>
</link>

<link name="BL_tibia_servo_v11">
  <inertial>
    <origin xyz="0.01097837415844323 0.024964439402794133 0.005000357972748601" rpy="0 0 0"/>
    <mass value="0.04601290050153535"/>
    <inertia ixx="8.000440624561934e-06" iyy="7.683397982049416e-06" izz="1.2574710800742272e-05" ixy="2.7077996425065205e-08" iyz="-2.5059639151107926e-15" ixz="3.724234462487708e-17"/>
  </inertial>
  <visual>
    <origin xyz="0.1297 -0.0181 -0.018815" rpy="0 0 0"/>
    <geometry>
      <mesh filename="meshes/BL_tibia_servo_v11.stl" scale="0.001 0.001 0.001"/>
    </geometry>
    <material name="silver"/>
    <material/>
  </visual>
  <collision>
    <origin xyz="0.1297 -0.0181 -0.018815" rpy="0 0 0"/>
    <geometry>
      <mesh filename="meshes/BL_tibia_servo_v11.stl" scale="0.001 0.001 0.001"/>
    </geometry>
  </collision>
</link>

<link name="FL_leg_hip_servo_holder_v11">
  <inertial>
    <origin xyz="0.00031031736950724864 0.029668736475733343 0.014847587186552508" rpy="0 0 0"/>
    <mass value="0.0358538323397971"/>
    <inertia ixx="2.964507741737483e-05" iyy="1.065754704355419e-05" izz="2.426119650128164e-05" ixy="-3.127060519845983e-08" iyz="-1.9022651394531138e-06" ixz="7.413870955645446e-08"/>
  </inertial>
  <visual>
    <origin xyz="0.1215 -0.188527 -0.025364" rpy="0 0 0"/>
    <geometry>
      <mesh filename="meshes/FL_leg_hip_servo_holder_v11.stl" scale="0.001 0.001 0.001"/>
    </geometry>
    <material name="silver"/>
    <material/>
  </visual>
  <collision>
    <origin xyz="0.1215 -0.188527 -0.025364" rpy="0 0 0"/>
    <geometry>
      <mesh filename="meshes/FL_leg_hip_servo_holder_v11.stl" scale="0.001 0.001 0.001"/>
    </geometry>
  </collision>
</link>

<link name="FL_femur_servo_v11">
  <inertial>
    <origin xyz="0.010978373741191746 -0.024964523905575686 -0.004999531889492301" rpy="0 0 0"/>
    <mass value="0.04601290050153535"/>
    <inertia ixx="8.000440624563072e-06" iyy="7.683397982049416e-06" izz="1.2574710800742489e-05" ixy="-2.7077996425173625e-08" iyz="-2.506024901482995e-15" ixz="-3.724234462487708e-17"/>
  </inertial>
  <visual>
    <origin xyz="0.1297 -0.2459 -0.049284" rpy="0 0 0"/>
    <geometry>
      <mesh filename="meshes/FL_femur_servo_v11.stl" scale="0.001 0.001 0.001"/>
    </geometry>
    <material name="silver"/>
    <material/>
  </visual>
  <collision>
    <origin xyz="0.1297 -0.2459 -0.049284" rpy="0 0 0"/>
    <geometry>
      <mesh filename="meshes/FL_femur_servo_v11.stl" scale="0.001 0.001 0.001"/>
    </geometry>
  </collision>
</link>

<link name="FL_tibia_servo_v11">
  <inertial>
    <origin xyz="0.010978373747012549 -0.024964523899645097 0.005000468108006643" rpy="0 0 0"/>
    <mass value="0.0460129005147678"/>
    <inertia ixx="8.000440629646246e-06" iyy="7.68339798820595e-06" izz="1.2574710810467783e-05" ixy="-2.7078001838595073e-08" iyz="-2.966566879300525e-15" ixz="2.261808362130635e-15"/>
  </inertial>
  <visual>
    <origin xyz="0.1297 -0.2459 -0.018784" rpy="0 0 0"/>
    <geometry>
      <mesh filename="meshes/FL_tibia_servo_v11.stl" scale="0.001 0.001 0.001"/>
    </geometry>
    <material name="silver"/>
    <material/>
  </visual>
  <collision>
    <origin xyz="0.1297 -0.2459 -0.018784" rpy="0 0 0"/>
    <geometry>
      <mesh filename="meshes/FL_tibia_servo_v11.stl" scale="0.001 0.001 0.001"/>
    </geometry>
  </collision>
</link>

<link name="FL_leg_knee_up_v11">
  <inertial>
    <origin xyz="-0.008186450553138186 -0.033338046852480374 -0.03273814086428243" rpy="0 0 0"/>
    <mass value="0.0166380341089574"/>
    <inertia ixx="1.4973159103524023e-05" iyy="7.831104039046936e-06" izz="8.151900973265365e-06" ixy="2.0657848576823056e-07" iyz="-7.202098162944546e-06" ixz="2.084981387181802e-07"/>
  </inertial>
  <visual>
    <origin xyz="0.1403 -0.2111 -0.044284" rpy="0 0 0"/>
    <geometry>
      <mesh filename="meshes/FL_leg_knee_up_v11.stl" scale="0.001 0.001 0.001"/>
    </geometry>
    <material name="silver"/>
    <material/>
  </visual>
  <collision>
    <origin xyz="0.1403 -0.2111 -0.044284" rpy="0 0 0"/>
    <geometry>
      <mesh filename="meshes/FL_leg_knee_up_v11.stl" scale="0.001 0.001 0.001"/>
    </geometry>
  </collision>
</link>

<link name="FL_leg_ankle_v11">
  <inertial>
    <origin xyz="-0.006600328994101262 0.036331775820339 -0.030777745465307278" rpy="0 0 0"/>
    <mass value="0.022209946665644437"/>
    <inertia ixx="1.8142218155355614e-05" iyy="8.758864927658561e-06" izz="1.2497646484325694e-05" ixy="7.136090795969302e-11" iyz="8.477773878468422e-06" ixz="-2.161618779209385e-10"/>
  </inertial>
  <visual>
    <origin xyz="0.1403 -0.148612 0.021289" rpy="0 0 0"/>
    <geometry>
      <mesh filename="meshes/FL_leg_ankle_v11.stl" scale="0.001 0.001 0.001"/>
    </geometry>
    <material name="silver"/>
    <material/>
  </visual>
  <collision>
    <origin xyz="0.1403 -0.148612 0.021289" rpy="0 0 0"/>
    <geometry>
      <mesh filename="meshes/FL_leg_ankle_v11.stl" scale="0.001 0.001 0.001"/>
    </geometry>
  </collision>
</link>

<joint name="Rigid_1" type="fixed">
  <origin xyz="-0.066 -0.003 0.004" rpy="0 0 0"/>
  <parent link="base_link"/>
  <child link="final_body_right_v11"/>
</joint>

<joint name="Rigid_2" type="fixed">
  <origin xyz="-0.1032 -0.003 0.06253" rpy="0 0 0"/>
  <parent link="base_link"/>
  <child link="final_body_top_back_v11"/>
</joint>

<joint name="Rigid_3" type="fixed">
  <origin xyz="0.0372 0.27 0.05853" rpy="0 0 0"/>
  <parent link="final_body_right_v11"/>
  <child link="final_body_top_front_v11"/>
</joint>

<joint name="Rigid_4" type="fixed">
  <origin xyz="0.0 0.27 -0.004" rpy="0 0 0"/>
  <parent link="final_body_right_v11"/>
  <child link="final_body_face_v11"/>
</joint>

<joint name="Rigid_5" type="fixed">
  <origin xyz="-0.066 -0.003 0.0" rpy="0 0 0"/>
  <parent link="base_link"/>
  <child link="final_body_ass_v11"/>
</joint>

<joint name="Rigid_6" type="fixed">
  <origin xyz="-0.1265 0.091873 0.010595" rpy="0 0 0"/>
  <parent link="base_link"/>
  <child link="BL_shoulder_servo_v11"/>
</joint>

<joint name="BL_shoulder_joint" type="continuous">
  <origin xyz="0.005 -0.0106 0.0148" rpy="0 0 0"/>
  <parent link="BL_shoulder_servo_v11"/>
  <child link="BL_shoulder_servo_arm_v11"/>
  <axis xyz="-0.0 1.0 -0.0"/>
</joint>
<transmission name="BL_shoulder_joint_tran">
  <type>transmission_interface/SimpleTransmission</type>
  <joint name="BL_shoulder_joint">
    <hardwareInterface>PositionJointInterface</hardwareInterface>
  </joint>
  <actuator name="BL_shoulder_joint_actr">
    <hardwareInterface>PositionJointInterface</hardwareInterface>
    <mechanicalReduction>1</mechanicalReduction>
  </actuator>
</transmission>

<joint name="Rigid_8" type="fixed">
  <origin xyz="0.0 -0.0058 0.0" rpy="0 0 0"/>
  <parent link="BL_shoulder_servo_arm_v11"/>
  <child link="BL_leg_hip_servo_holder_v11"/>
</joint>

<joint name="Rigid_9" type="fixed">
  <origin xyz="-0.0082 -0.057373 0.01392" rpy="0 0 0"/>
  <parent link="BL_leg_hip_servo_holder_v11"/>
  <child link="BL_femur_servo_v11"/>
</joint>

<joint name="BL_femur_joint" type="continuous">
  <origin xyz="-0.0106 0.0148 0.005" rpy="0 0 0"/>
  <parent link="BL_femur_servo_v11"/>
  <child link="BL_leg_knee_up_v11"/>
  <axis xyz="-1.0 -0.0 -0.0"/>
</joint>
<transmission name="BL_femur_joint_tran">
  <type>transmission_interface/SimpleTransmission</type>
  <joint name="BL_femur_joint">
    <hardwareInterface>PositionJointInterface</hardwareInterface>
  </joint>
  <actuator name="BL_femur_joint_actr">
    <hardwareInterface>PositionJointInterface</hardwareInterface>
    <mechanicalReduction>1</mechanicalReduction>
  </actuator>
</transmission>

<joint name="BL_knee_joint" type="continuous">
  <origin xyz="-0.013 -0.062488 -0.065573" rpy="0 0 0"/>
  <parent link="BL_leg_knee_up_v11"/>
  <child link="BL_leg_ankle_v11"/>
  <axis xyz="-1.0 -0.0 -0.0"/>
</joint>
<transmission name="BL_knee_joint_tran">
  <type>transmission_interface/SimpleTransmission</type>
  <joint name="BL_knee_joint">
    <hardwareInterface>PositionJointInterface</hardwareInterface>
  </joint>
  <actuator name="BL_knee_joint_actr">
    <hardwareInterface>PositionJointInterface</hardwareInterface>
    <mechanicalReduction>1</mechanicalReduction>
  </actuator>
</transmission>

<joint name="Rigid_12" type="fixed">
  <origin xyz="0.0066 0.067876 -0.059031" rpy="0 0 0"/>
  <parent link="BL_leg_ankle_v11"/>
  <child link="BL_foot1"/>
</joint>

<joint name="BL_foot" type="fixed">
  <origin xyz="-1.4e-05 5.3e-05 0.01" rpy="0 0 0"/>
  <parent link="BL_foot1"/>
  <child link="BL_tip_foot1"/>
</joint>

<joint name="Rigid_15" type="fixed">
  <origin xyz="0.0605 0.094873 0.006595" rpy="0 0 0"/>
  <parent link="final_body_right_v11"/>
  <child link="BR_shoulder_servo_v11"/>
</joint>

<joint name="BR_shoulder_joint" type="continuous">
  <origin xyz="-0.005 -0.0106 0.0148" rpy="0 0 0"/>
  <parent link="BR_shoulder_servo_v11"/>
  <child link="BR_shoulder_servo_arm_v11"/>
  <axis xyz="0.0 -1.0 0.0"/>
</joint>
<transmission name="BR_shoulder_joint_tran">
  <type>transmission_interface/SimpleTransmission</type>
  <joint name="BR_shoulder_joint">
    <hardwareInterface>PositionJointInterface</hardwareInterface>
  </joint>
  <actuator name="BR_shoulder_joint_actr">
    <hardwareInterface>PositionJointInterface</hardwareInterface>
    <mechanicalReduction>1</mechanicalReduction>
  </actuator>
</transmission>

<joint name="Rigid_17" type="fixed">
  <origin xyz="0.0 -0.0058 0.0" rpy="0 0 0"/>
  <parent link="BR_shoulder_servo_arm_v11"/>
  <child link="BR_leg_hip_servo_holder_v11"/>
</joint>

<joint name="Rigid_18" type="fixed">
  <origin xyz="0.0082 -0.008373 0.02392" rpy="0 0 0"/>
  <parent link="BR_leg_hip_servo_holder_v11"/>
  <child link="BR_femur_servo_v11"/>
</joint>

<joint name="BR_femur_joint" type="continuous">
  <origin xyz="0.0106 -0.0348 -0.005" rpy="0 0 0"/>
  <parent link="BR_femur_servo_v11"/>
  <child link="BR_leg_knee_up_v11"/>
  <axis xyz="-1.0 -0.0 0.0"/>
</joint>
<transmission name="BR_femur_joint_tran">
  <type>transmission_interface/SimpleTransmission</type>
  <joint name="BR_femur_joint">
    <hardwareInterface>PositionJointInterface</hardwareInterface>
  </joint>
  <actuator name="BR_femur_joint_actr">
    <hardwareInterface>PositionJointInterface</hardwareInterface>
    <mechanicalReduction>1</mechanicalReduction>
  </actuator>
</transmission>

<joint name="Rigid_20" type="fixed">
  <origin xyz="0.0082 -0.057373 -0.00658" rpy="0 0 0"/>
  <parent link="BR_leg_hip_servo_holder_v11"/>
  <child link="BR_tibia_servo_v11"/>
</joint>

<joint name="BR_foot" type="fixed">
  <origin xyz="-0.045388 -0.015448 -0.157285" rpy="0 0 0"/>
  <parent link="BR_leg_ankle_v11"/>
  <child link="BR_tip_foot1"/>
</joint>

<joint name="Rigid_23" type="fixed">
  <origin xyz="-0.1165 0.172127 0.010564" rpy="0 0 0"/>
  <parent link="base_link"/>
  <child link="FL_shoulder_servo_v11"/>
</joint>

<joint name="FL_shoulder_joint" type="continuous">
  <origin xyz="-0.005 0.0106 0.0148" rpy="0 0 0"/>
  <parent link="FL_shoulder_servo_v11"/>
  <child link="FL_shoulder_servo_arm_v11"/>
  <axis xyz="-0.0 1.0 0.0"/>
</joint>
<transmission name="FL_shoulder_joint_tran">
  <type>transmission_interface/SimpleTransmission</type>
  <joint name="FL_shoulder_joint">
    <hardwareInterface>PositionJointInterface</hardwareInterface>
  </joint>
  <actuator name="FL_shoulder_joint_actr">
    <hardwareInterface>PositionJointInterface</hardwareInterface>
    <mechanicalReduction>1</mechanicalReduction>
  </actuator>
</transmission>

<joint name="Rigid_29" type="fixed">
  <origin xyz="0.0066 0.067876 -0.059031" rpy="0 0 0"/>
  <parent link="BR_leg_ankle_v11"/>
  <child link="BR_foot1"/>
</joint>

<joint name="FL_foot" type="fixed">
  <origin xyz="0.224188 -0.177248 0.003324" rpy="0 0 0"/>
  <parent link="FL_leg_ankle_v11"/>
  <child link="FL_tip_foot1"/>
</joint>

<joint name="Rigid_33" type="fixed">
  <origin xyz="-0.0066 0.067876 -0.059031" rpy="0 0 0"/>
  <parent link="FL_leg_ankle_v11"/>
  <child link="FL_foot1"/>
</joint>

<joint name="Rigid_34" type="fixed">
  <origin xyz="0.0505 0.175127 0.006595" rpy="0 0 0"/>
  <parent link="final_body_right_v11"/>
  <child link="FR_shoulder_servo_v11"/>
</joint>

<joint name="FR_shoulder_joint" type="continuous">
  <origin xyz="0.005 0.0106 0.0148" rpy="0 0 0"/>
  <parent link="FR_shoulder_servo_v11"/>
  <child link="FR_shoulder_servo_arm_v11"/>
  <axis xyz="0.0 -1.0 0.0"/>
</joint>
<transmission name="FR_shoulder_joint_tran">
  <type>transmission_interface/SimpleTransmission</type>
  <joint name="FR_shoulder_joint">
    <hardwareInterface>PositionJointInterface</hardwareInterface>
  </joint>
  <actuator name="FR_shoulder_joint_actr">
    <hardwareInterface>PositionJointInterface</hardwareInterface>
    <mechanicalReduction>1</mechanicalReduction>
  </actuator>
</transmission>

<joint name="Rigid_36" type="fixed">
  <origin xyz="0.0 0.006 0.0" rpy="0 0 0"/>
  <parent link="FR_shoulder_servo_arm_v11"/>
  <child link="FR_leg_hip_servo_holder_v11"/>
</joint>

<joint name="Rigid_37" type="fixed">
  <origin xyz="0.0082 0.008373 0.02392" rpy="0 0 0"/>
  <parent link="FR_leg_hip_servo_holder_v11"/>
  <child link="FR_femur_servo_v11"/>
</joint>

<joint name="Rigid_38" type="fixed">
  <origin xyz="0.0082 0.008373 0.00342" rpy="0 0 0"/>
  <parent link="FR_leg_hip_servo_holder_v11"/>
  <child link="FR_tibia_servo_v11"/>
</joint>

<joint name="FR_femur_joint" type="continuous">
  <origin xyz="0.0106 0.0148 -0.005" rpy="0 0 0"/>
  <parent link="FR_femur_servo_v11"/>
  <child link="FR_leg_knee_up_v11"/>
  <axis xyz="-1.0 0.0 -0.0"/>
</joint>
<transmission name="FR_femur_joint_tran">
  <type>transmission_interface/SimpleTransmission</type>
  <joint name="FR_femur_joint">
    <hardwareInterface>PositionJointInterface</hardwareInterface>
  </joint>
  <actuator name="FR_femur_joint_actr">
    <hardwareInterface>PositionJointInterface</hardwareInterface>
    <mechanicalReduction>1</mechanicalReduction>
  </actuator>
</transmission>

<joint name="FR_knee_joint" type="continuous">
  <origin xyz="0.0 -0.062488 -0.065573" rpy="0 0 0"/>
  <parent link="FR_leg_knee_up_v11"/>
  <child link="FR_leg_ankle_v11"/>
  <axis xyz="1.0 -0.0 0.0"/>
</joint>
<transmission name="FR_knee_joint_tran">
  <type>transmission_interface/SimpleTransmission</type>
  <joint name="FR_knee_joint">
    <hardwareInterface>PositionJointInterface</hardwareInterface>
  </joint>
  <actuator name="FR_knee_joint_actr">
    <hardwareInterface>PositionJointInterface</hardwareInterface>
    <mechanicalReduction>1</mechanicalReduction>
  </actuator>
</transmission>

<joint name="FR_foot" type="fixed">
  <origin xyz="-0.224988 -0.015448 -0.157285" rpy="0 0 0"/>
  <parent link="FR_leg_ankle_v11"/>
  <child link="FR_tip_foot1"/>
</joint>

<joint name="Rigid_42" type="fixed">
  <origin xyz="0.0066 0.067876 -0.059031" rpy="0 0 0"/>
  <parent link="FR_leg_ankle_v11"/>
  <child link="FR_foot1"/>
</joint>

<joint name="Revolute_43" type="continuous">
  <origin xyz="0.0 -0.062488 -0.065573" rpy="0 0 0"/>
  <parent link="BR_leg_knee_up_v11"/>
  <child link="BR_leg_ankle_v11"/>
  <axis xyz="1.0 0.0 -0.0"/>
</joint>
<transmission name="Revolute_43_tran">
  <type>transmission_interface/SimpleTransmission</type>
  <joint name="Revolute_43">
    <hardwareInterface>PositionJointInterface</hardwareInterface>
  </joint>
  <actuator name="Revolute_43_actr">
    <hardwareInterface>PositionJointInterface</hardwareInterface>
    <mechanicalReduction>1</mechanicalReduction>
  </actuator>
</transmission>

<joint name="Rigid_44" type="fixed">
  <origin xyz="-0.0082 -0.057373 -0.00658" rpy="0 0 0"/>
  <parent link="BL_leg_hip_servo_holder_v11"/>
  <child link="BL_tibia_servo_v11"/>
</joint>

<joint name="Rigid_45" type="fixed">
  <origin xyz="0.0 0.0058 0.0" rpy="0 0 0"/>
  <parent link="FL_shoulder_servo_arm_v11"/>
  <child link="FL_leg_hip_servo_holder_v11"/>
</joint>

<joint name="Rigid_46" type="fixed">
  <origin xyz="-0.0082 0.057373 0.02392" rpy="0 0 0"/>
  <parent link="FL_leg_hip_servo_holder_v11"/>
  <child link="FL_femur_servo_v11"/>
</joint>

<joint name="Rigid_47" type="fixed">
  <origin xyz="-0.0082 0.057373 -0.00658" rpy="0 0 0"/>
  <parent link="FL_leg_hip_servo_holder_v11"/>
  <child link="FL_tibia_servo_v11"/>
</joint>

<joint name="FL_femur_joint" type="continuous">
  <origin xyz="-0.0106 -0.0348 -0.005" rpy="0 0 0"/>
  <parent link="FL_femur_servo_v11"/>
  <child link="FL_leg_knee_up_v11"/>
  <axis xyz="-1.0 -0.0 -0.0"/>
</joint>
<transmission name="FL_femur_joint_tran">
  <type>transmission_interface/SimpleTransmission</type>
  <joint name="FL_femur_joint">
    <hardwareInterface>PositionJointInterface</hardwareInterface>
  </joint>
  <actuator name="FL_femur_joint_actr">
    <hardwareInterface>PositionJointInterface</hardwareInterface>
    <mechanicalReduction>1</mechanicalReduction>
  </actuator>
</transmission>

<joint name="FL_knee_joint" type="continuous">
  <origin xyz="0.0 -0.062488 -0.065573" rpy="0 0 0"/>
  <parent link="FL_leg_knee_up_v11"/>
  <child link="FL_leg_ankle_v11"/>
  <axis xyz="1.0 0.0 0.0"/>
</joint>
<transmission name="FL_knee_joint_tran">
  <type>transmission_interface/SimpleTransmission</type>
  <joint name="FL_knee_joint">
    <hardwareInterface>PositionJointInterface</hardwareInterface>
  </joint>
  <actuator name="FL_knee_joint_actr">
    <hardwareInterface>PositionJointInterface</hardwareInterface>
    <mechanicalReduction>1</mechanicalReduction>
  </actuator>
</transmission>

</robot>
